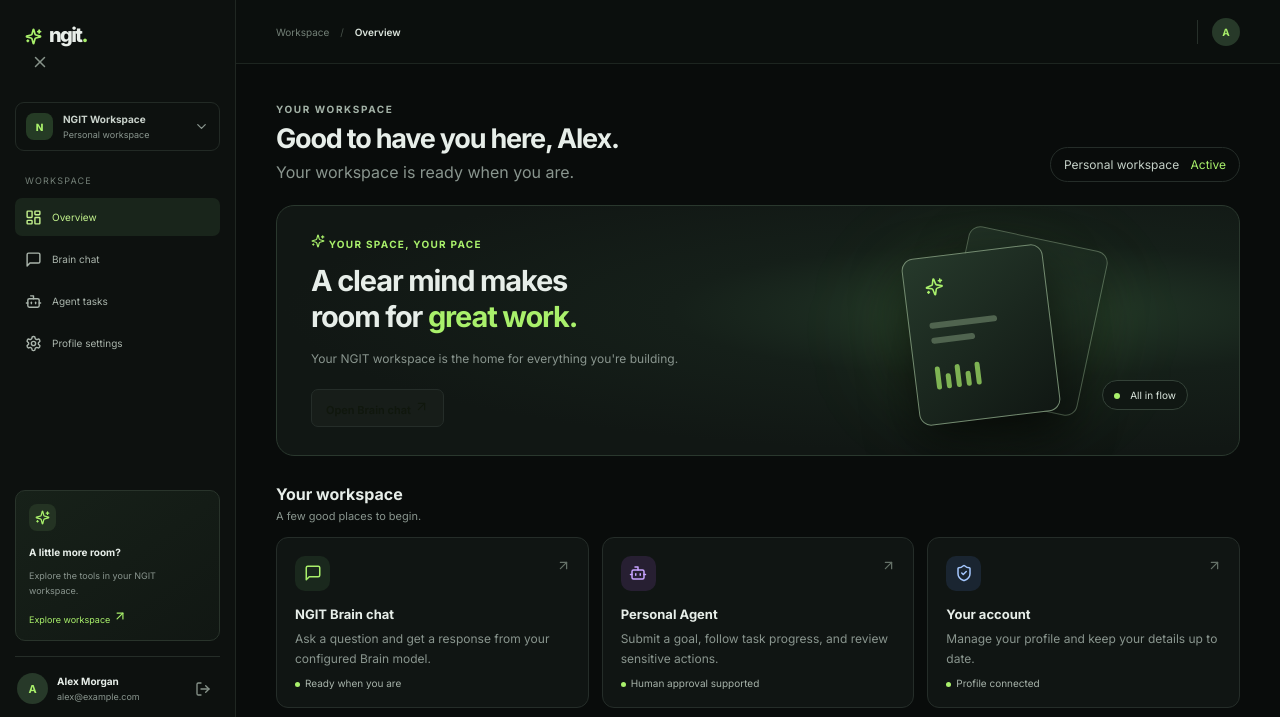
it: NGIT Brain and Agent workflows › loads Brain models and sends a prompt to the Brain API
Expected: the heading "Good to have you here, Alex." is shown, 276,122 -> 619,155
Click the button "Brain chat" at (118, 259), box 15,240 -> 220,278
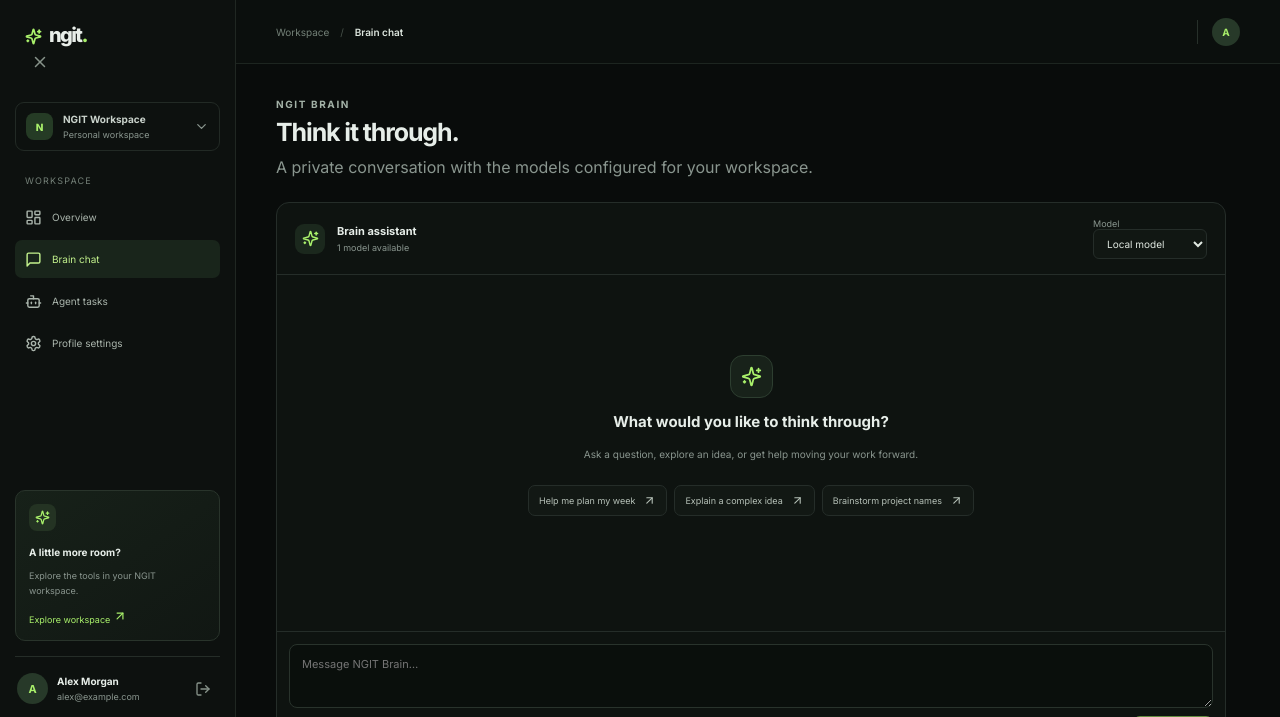
Type "Help me think this through" into the text box labelled "Message NGIT Brain" at (751, 676), box 289,644 -> 1213,708
(page scrolled)
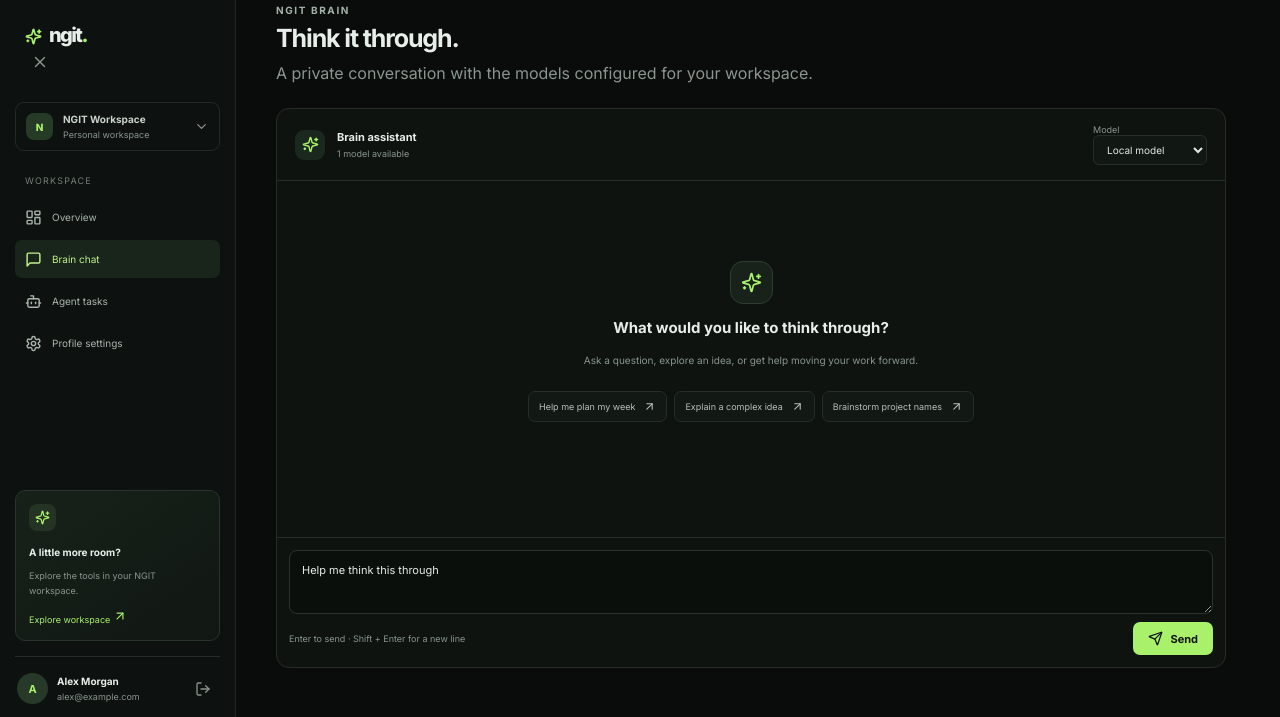
Click the button with aria-label "Send message" at (1173, 639), box 1134,622 -> 1213,655
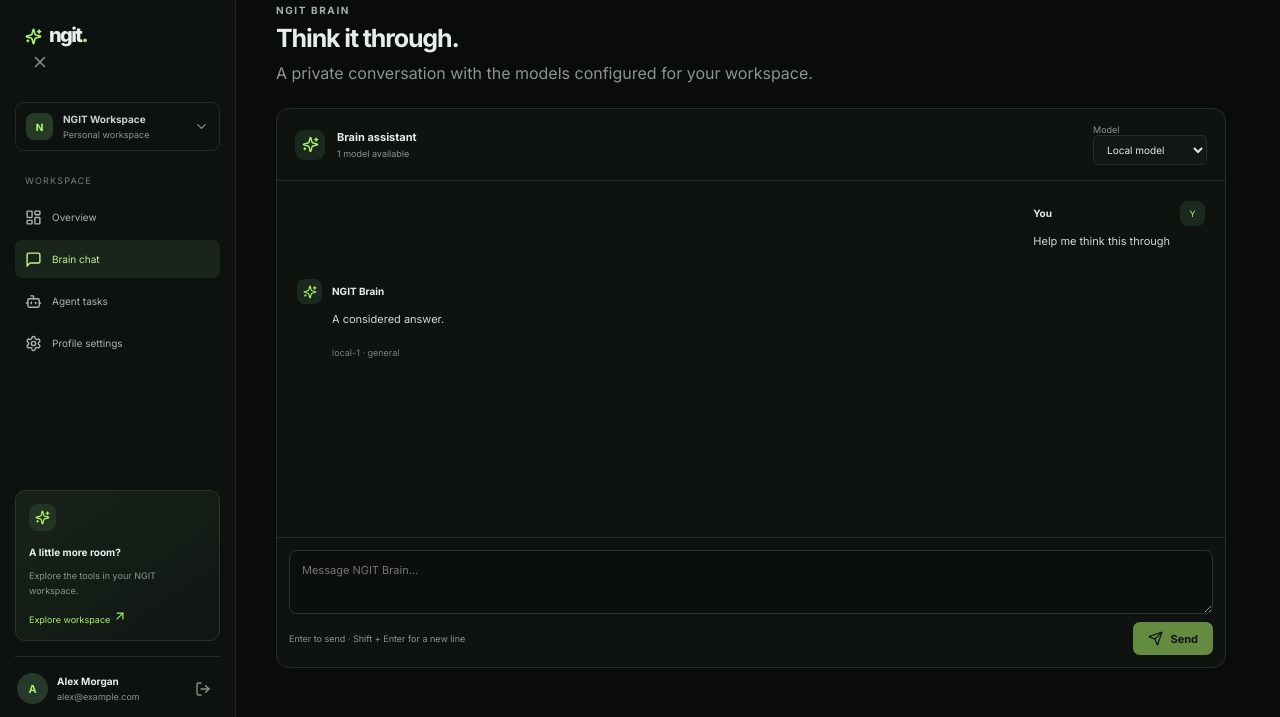
Now the text "A considered answer." is shown, box 332,310 -> 444,329
